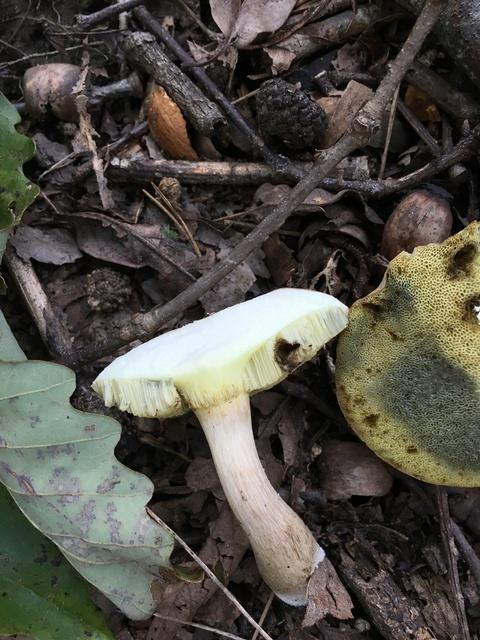edible_mushroom: (90, 285, 350, 607), (338, 216, 480, 491)
